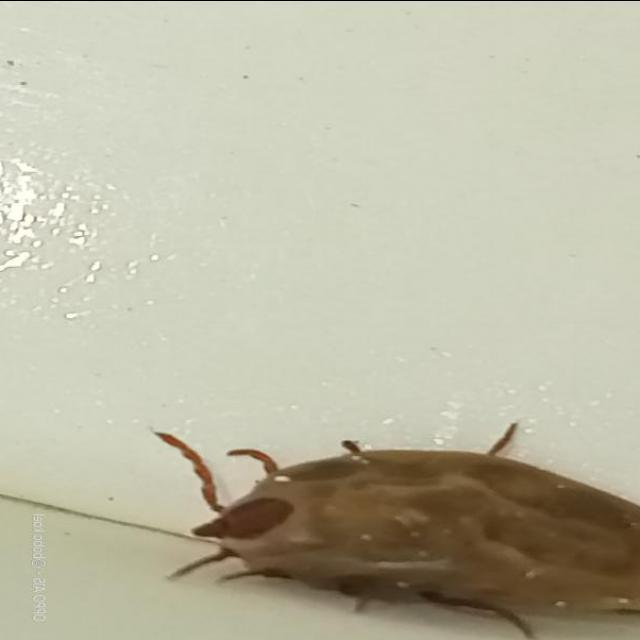Rhipicephalus Sanguineus-F-Fed: (155, 423, 640, 638)
